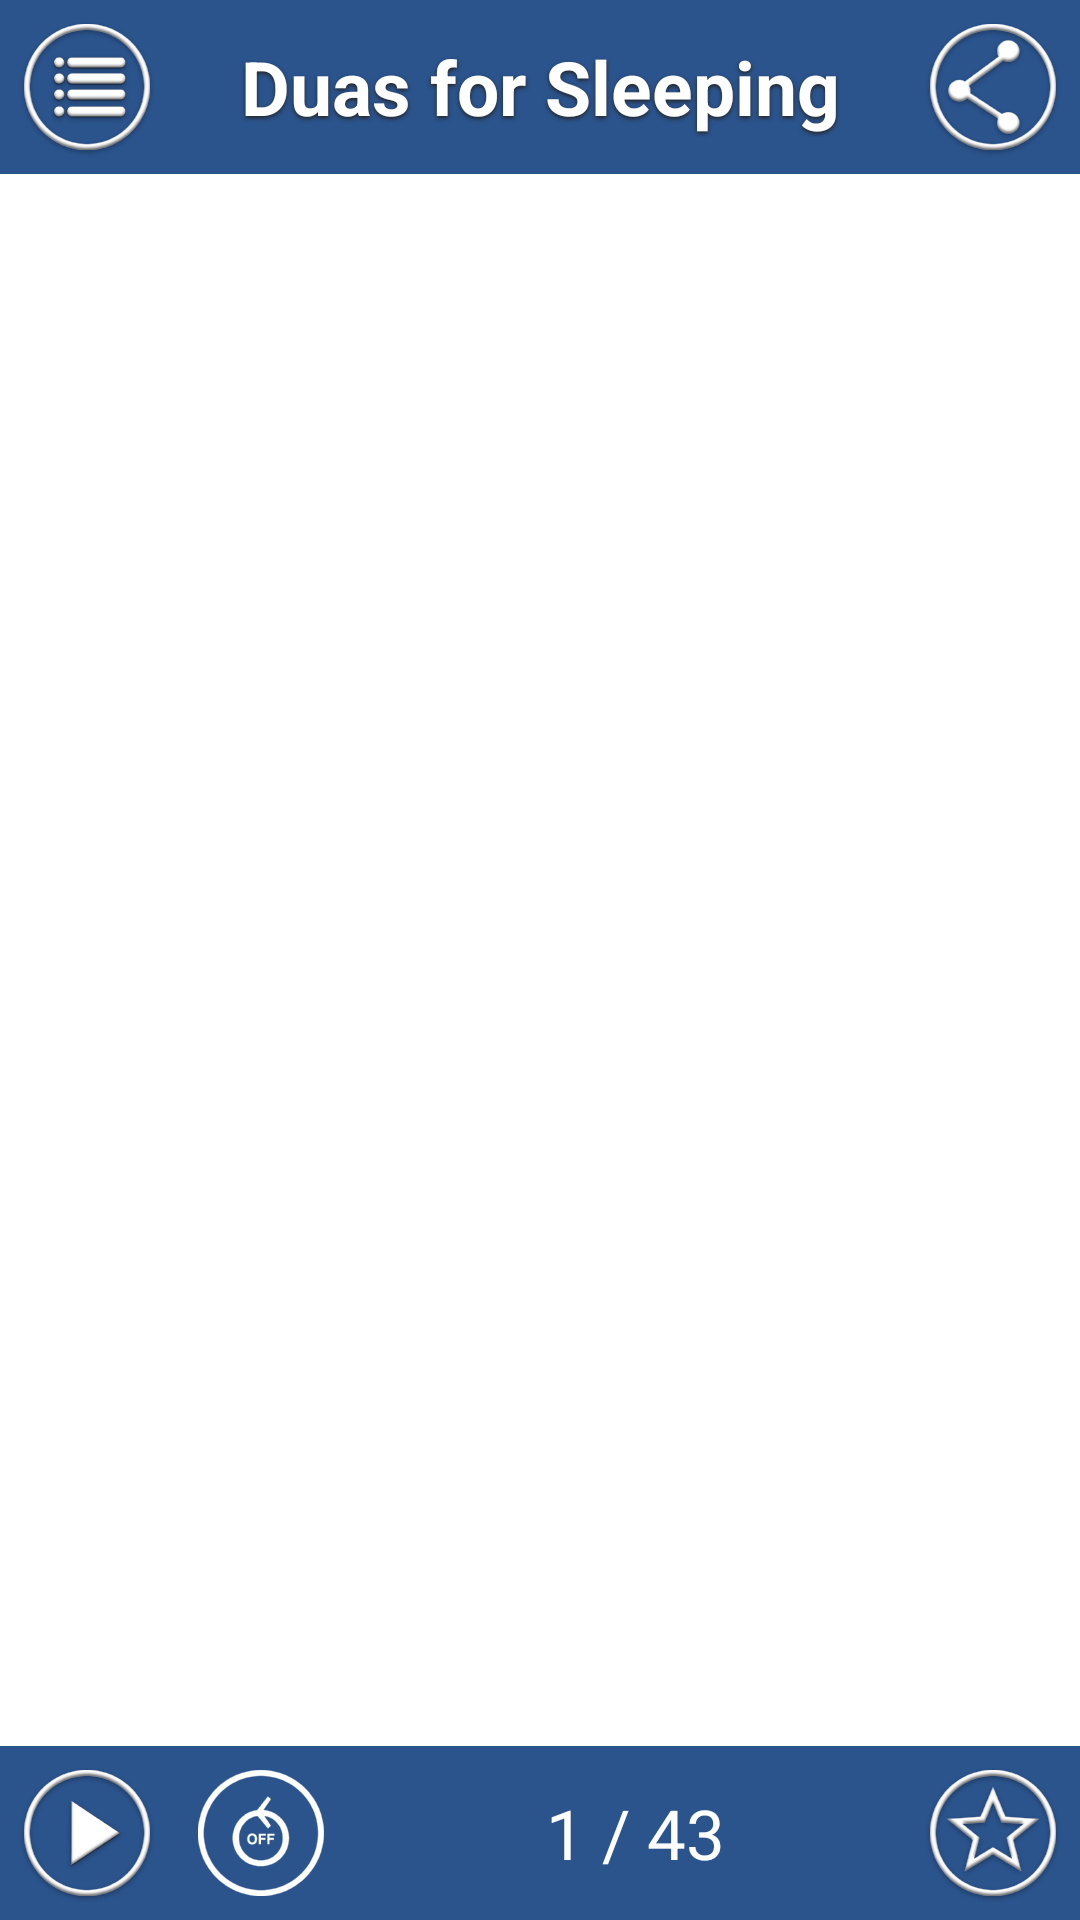

Where to tap for icons on this 1080*1920 app screen, as point (x, y):
togbtn repeat: point (261, 1833)
